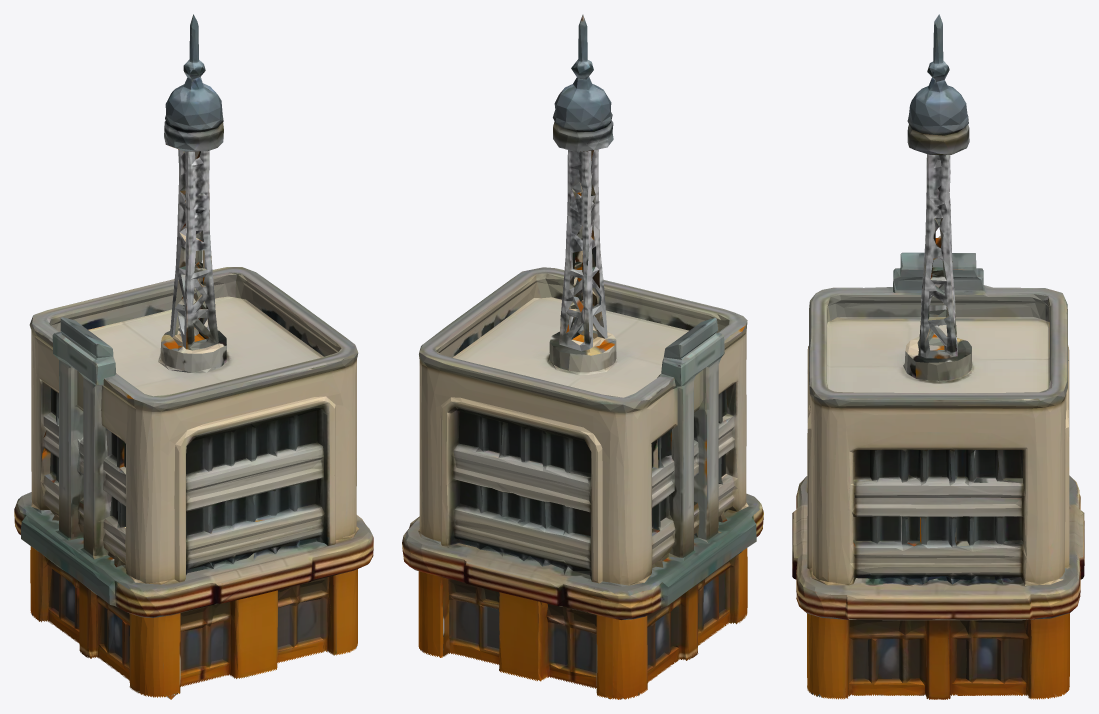
File: broadcast.glb
The picture shows the model from 3 angles, left to right: view 1: azimuth 30°, elevation 25°; view 2: azimuth 150°, elevation 25°; view 3: azimuth 270°, elevation 25°; orthographic projection. The views are drawn at different scales.
Visible parts, largest first — view 1: figure; view 2: figure; view 3: figure.
Part boxes in pixels (x1,y1,x2,y2): figure: (14, 14, 373, 699); figure: (402, 14, 763, 699); figure: (792, 14, 1084, 699).
Bounding box in the file's own units: 0.4381 × 1 × 0.4179.
1 material, 1 textured.
